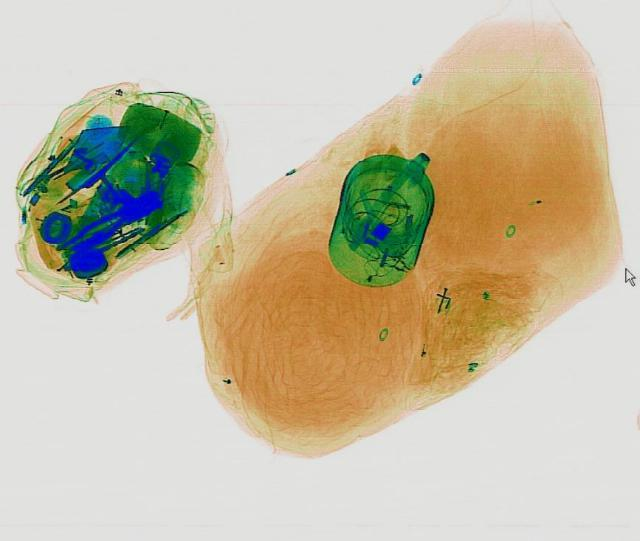Pliers: (48, 186, 165, 261)
